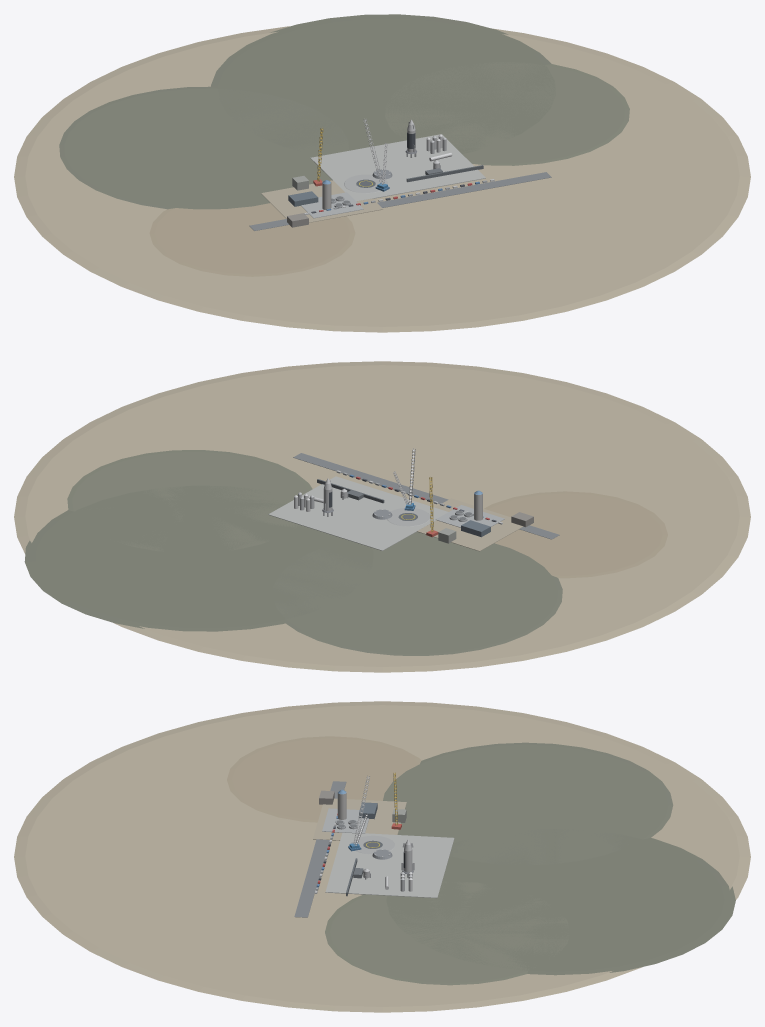
File: south-texas-launch-site-sn15.glb
The picture shows the model from 3 angles, top to bottom: view 1: azimuth 30°, elevation 25°; view 2: azimuth 150°, elevation 25°; view 3: azimuth 270°, elevation 25°; orthographic projection.
Visible parts, largest first — view 1: Starbase_Boca_Chica_SN15; view 2: Starbase_Boca_Chica_SN15; view 3: Starbase_Boca_Chica_SN15.
Boxes of the visible parts, x1=… form: Starbase_Boca_Chica_SN15: x1=14, y1=14, x2=750, y2=332; Starbase_Boca_Chica_SN15: x1=14, y1=361, x2=750, y2=672; Starbase_Boca_Chica_SN15: x1=14, y1=701, x2=750, y2=1012.
Bounding box in the file's own units: 196 × 20.34 × 196.
